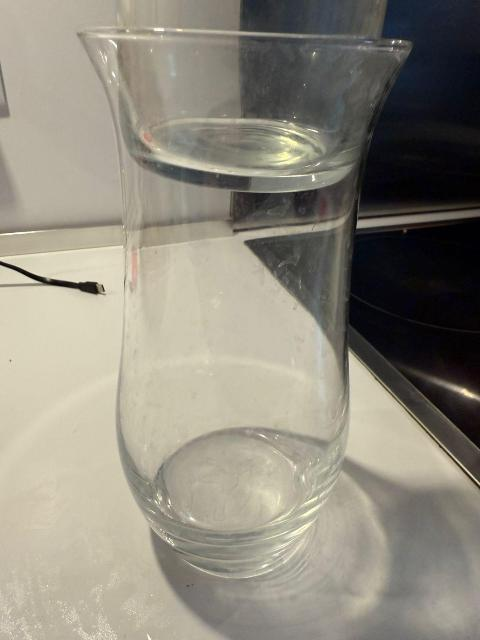Cam: (77, 25, 400, 551), (84, 0, 384, 168)
